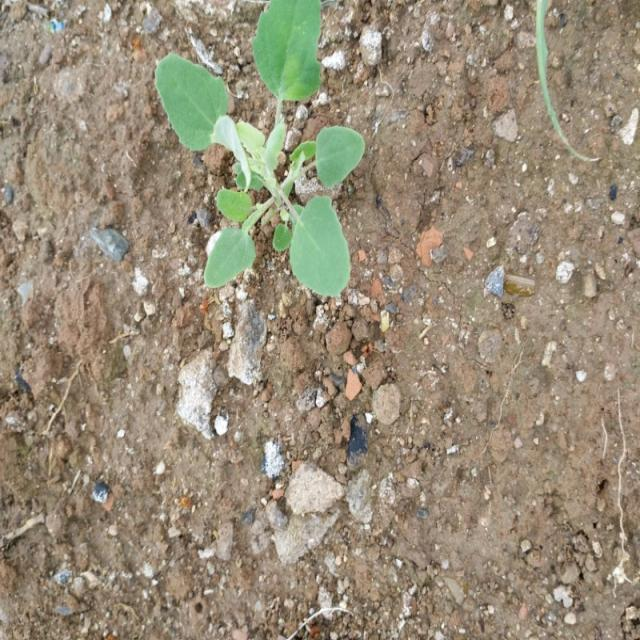ca: (156, 0, 367, 302)
